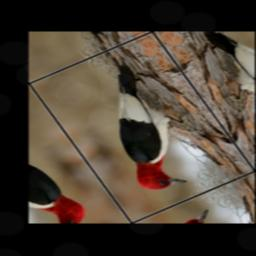Woodpecker: (61, 47, 230, 201)
